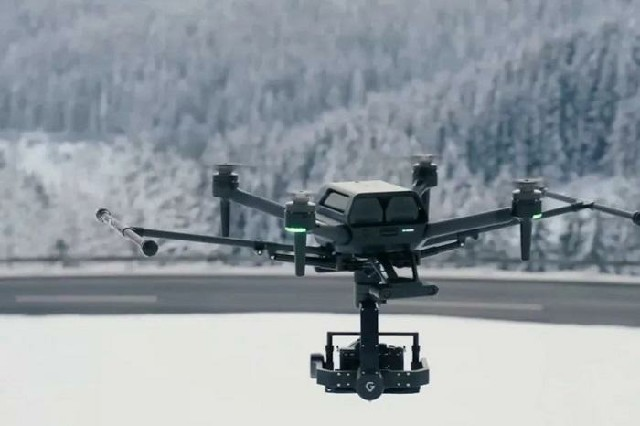maybay_khongnguoilai: (96, 141, 611, 379)
